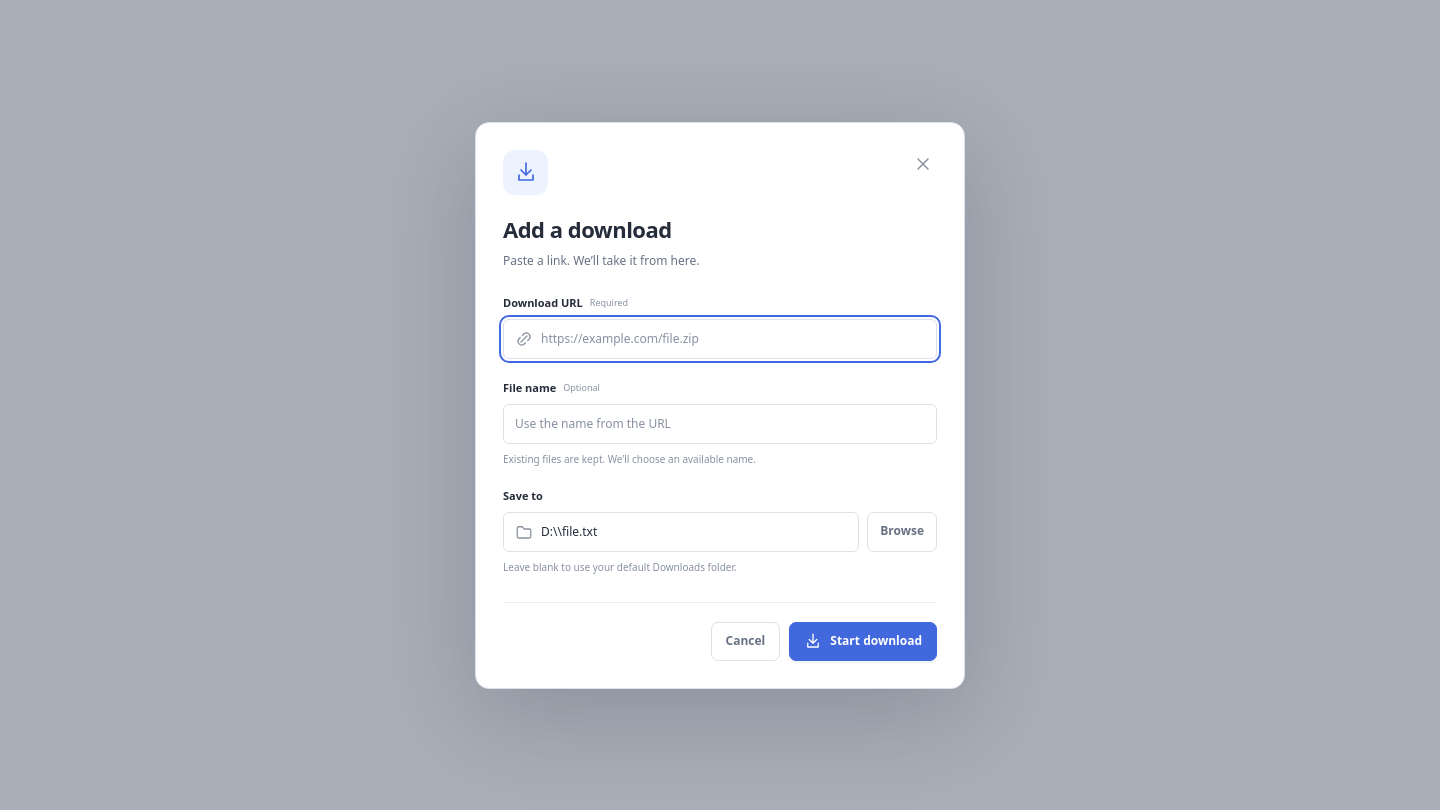
Test: add download dialog › keeps entered data and shows backend errors so submission can be retried
Type "https://example.com/file" into the field labelled "Download URL Required" at (738, 338), box x1=541 y1=320 x2=936 y2=358
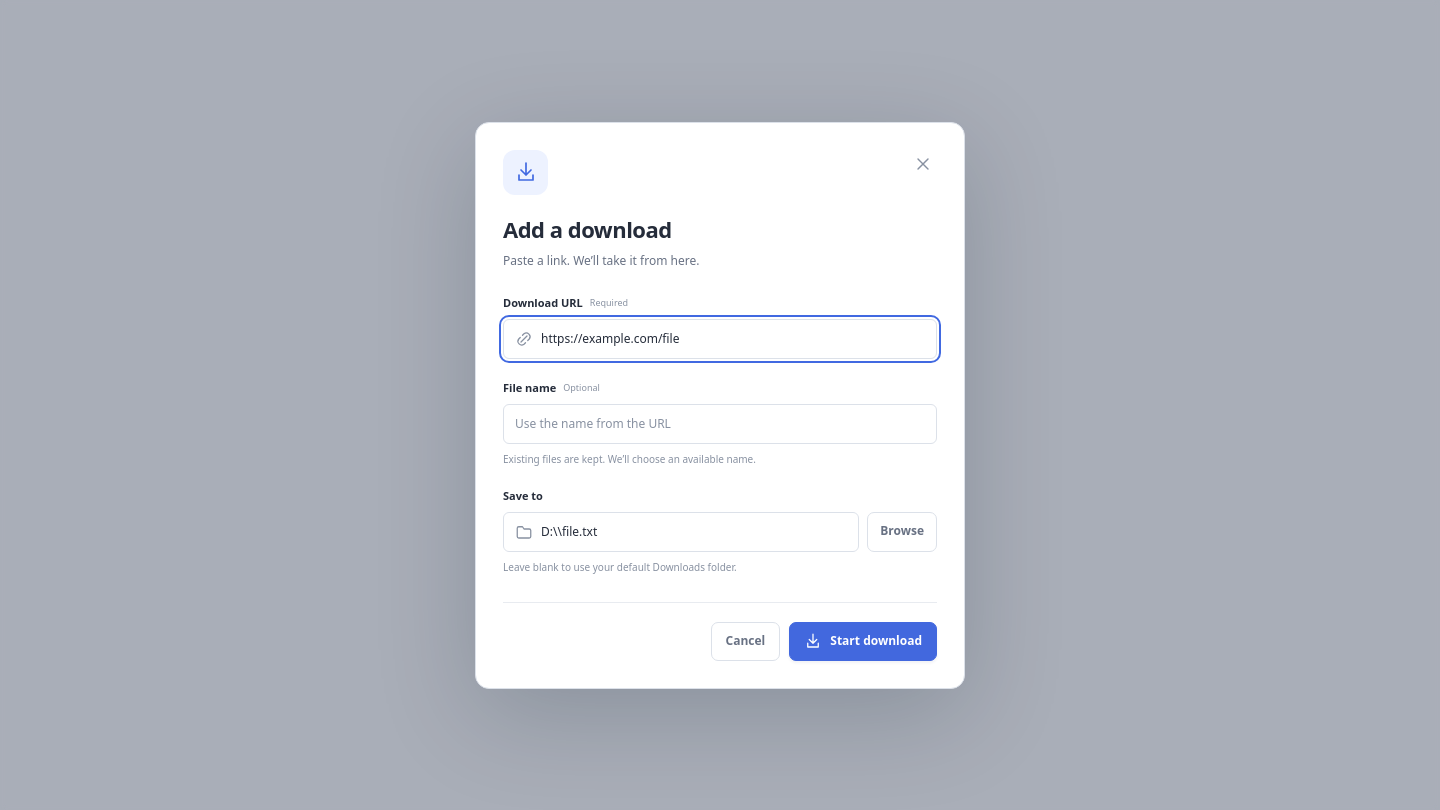
Click the button "Start download" at (863, 641), box x1=789 y1=622 x2=937 y2=660
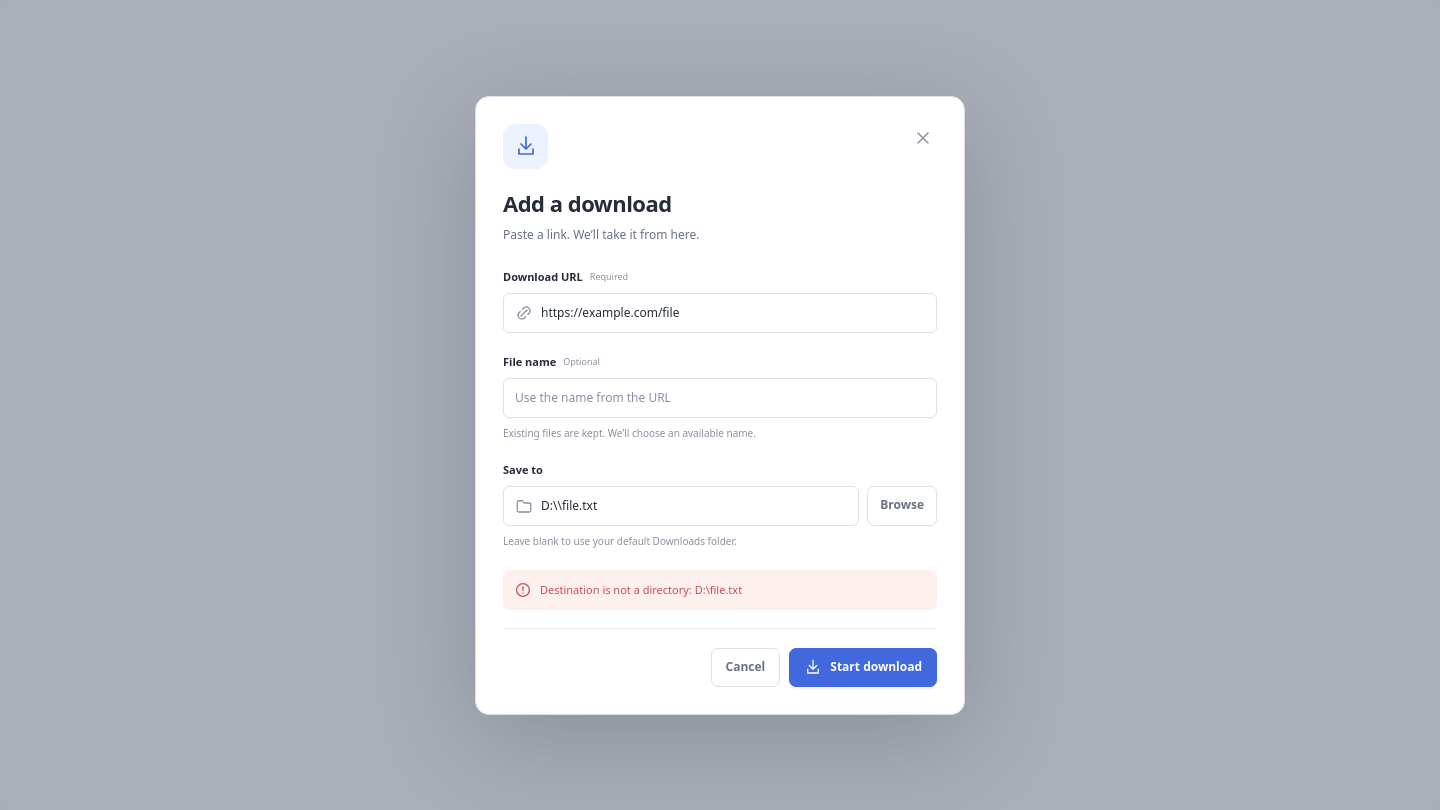
Expected: the button "Start download" is enabled, x1=789 y1=648 x2=937 y2=686
Expected: the message shows "Destination is not a directory", x1=540 y1=582 x2=742 y2=596
